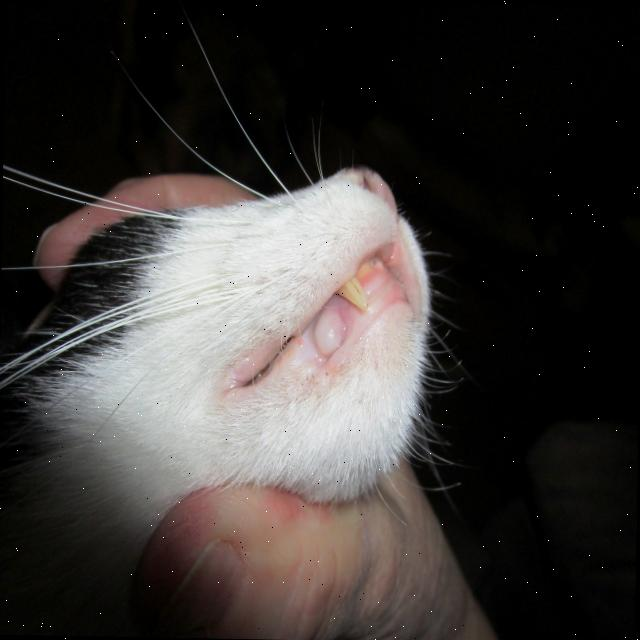cat-lump-and-bump: (310, 303, 347, 362)
